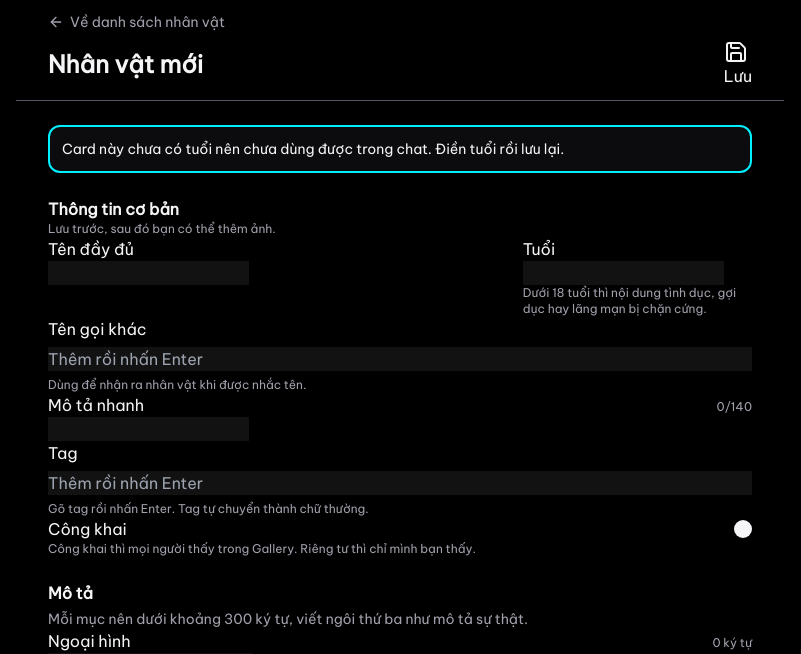
Test: character editor: server errors › maps validation_error details to the matching fields
Click the button "Lưu": (738, 64) [724, 40, 752, 88]
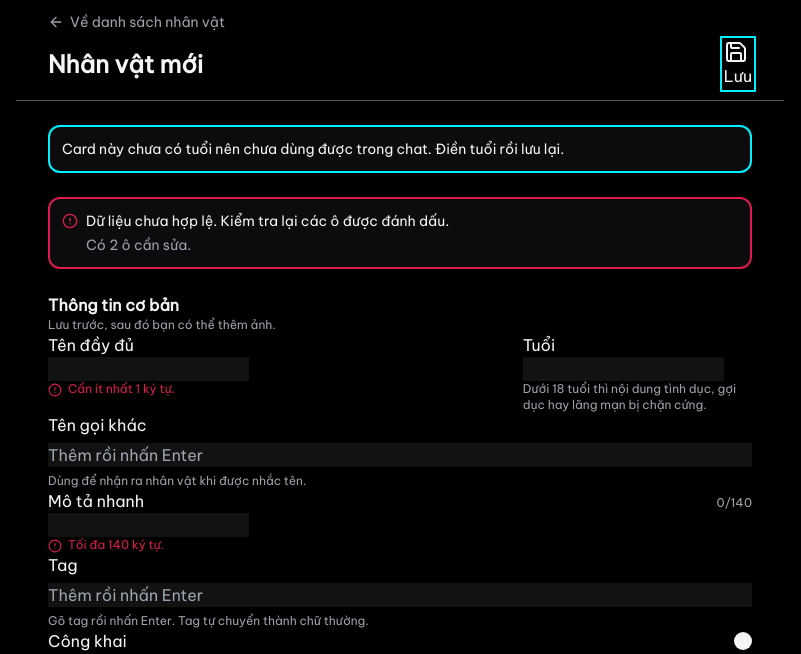
Now the message "Dữ liệu chưa hợp lệ. Kiểm tra lại các ô được đánh dấu. Có 2 ô cần sửa." is shown, box [48, 197, 752, 269]
